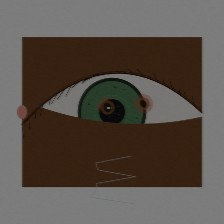foreign_body_visible: (83, 88, 131, 127)
